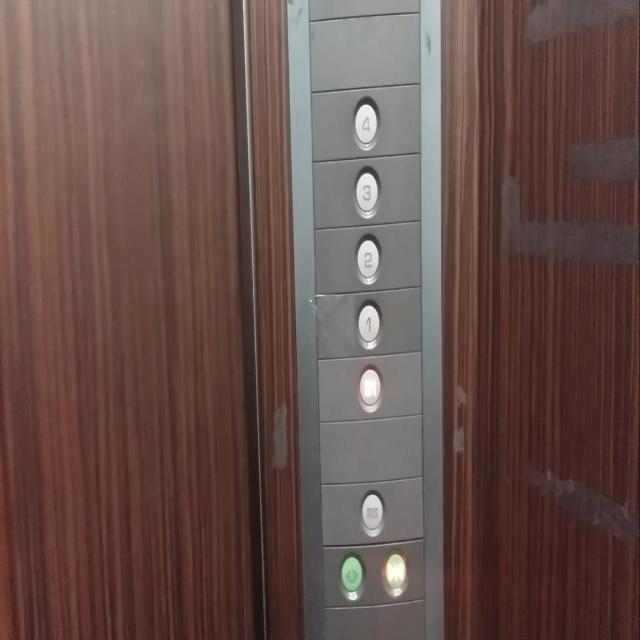1: (356, 296, 384, 350)
2: (356, 232, 382, 284)
3: (352, 164, 383, 220)
4: (352, 93, 382, 150)
B1: (357, 362, 382, 412)
close: (381, 546, 409, 597)
open: (337, 551, 366, 599)
text: (360, 488, 385, 536)
